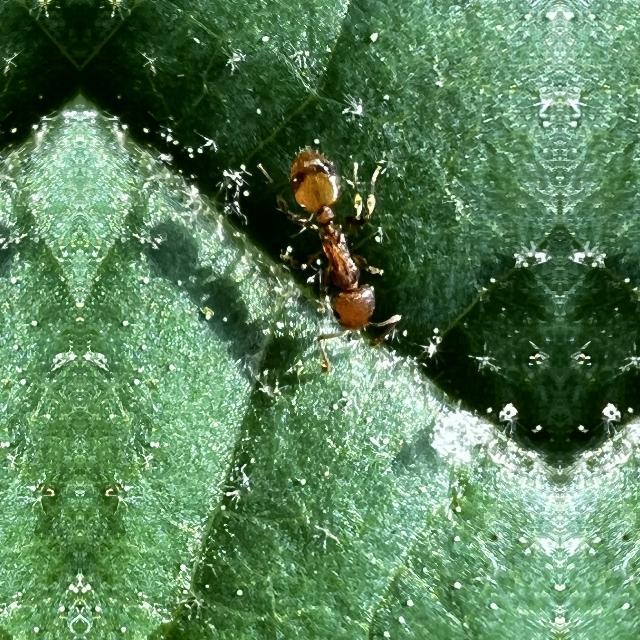Temnothorax: (258, 118, 409, 372)
